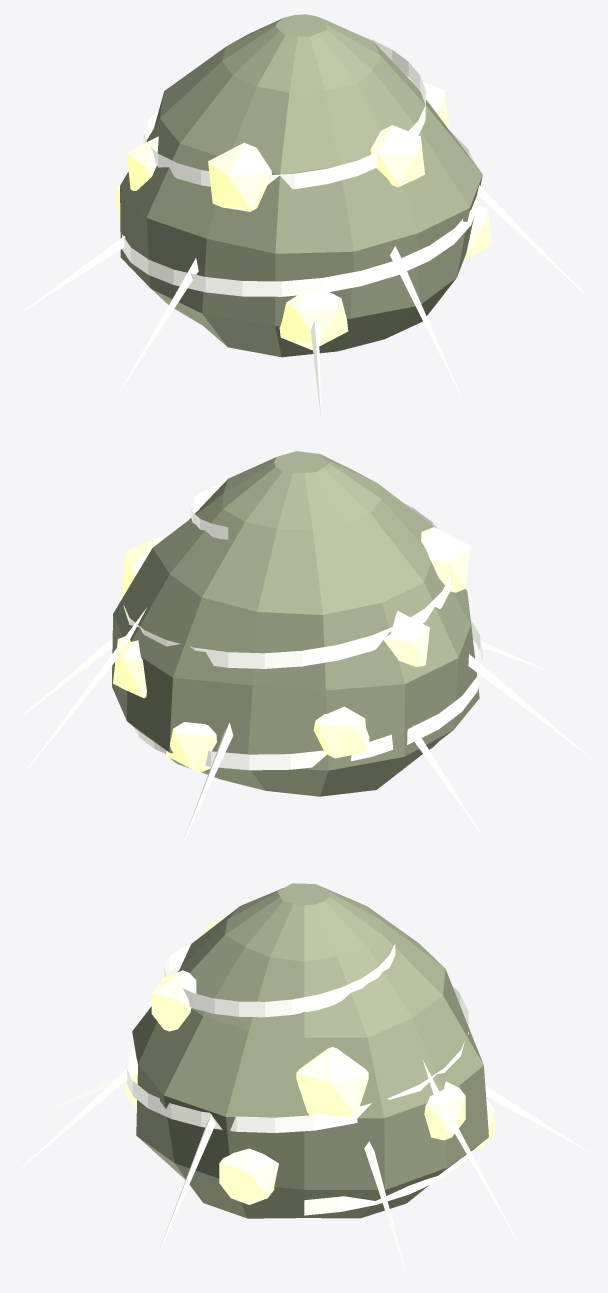
Rendered from hoard_brood_cocoon.glb.
3 renders of one model, top to bottom at view 1: azimuth 30°, elevation 25°; view 2: azimuth 150°, elevation 25°; view 3: azimuth 270°, elevation 25°, orthographic. The views are drawn at different scales.
Visible parts, largest first — view 1: Brood_Sac, Brood_Threads, Brood_Eggs; view 2: Brood_Sac, Brood_Threads, Brood_Eggs; view 3: Brood_Sac, Brood_Threads, Brood_Eggs.
Boxes of the visible parts, box(x1,y1,x2,y2) form: Brood_Sac: box(120, 14, 482, 357); Brood_Threads: box(16, 36, 593, 420); Brood_Eggs: box(115, 78, 492, 349); Brood_Sac: box(112, 451, 479, 796); Brood_Threads: box(16, 484, 591, 851); Brood_Eggs: box(113, 527, 470, 772); Brood_Sac: box(132, 883, 488, 1218); Brood_Threads: box(16, 943, 591, 1274); Brood_Eggs: box(125, 917, 494, 1204).
Bounding box in the file's own units: 4.42 × 2.5 × 4.78.
